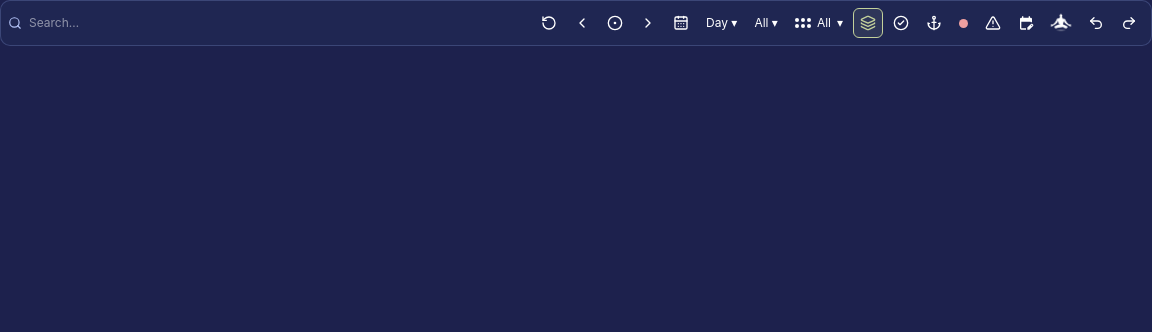
Test: calendar opens on the Timeline anchor month
What coordinates should you click on to do the following:
click the button named "Jump to date"
I would click on:
 (681, 23)
Its box is [666,8,696,38].
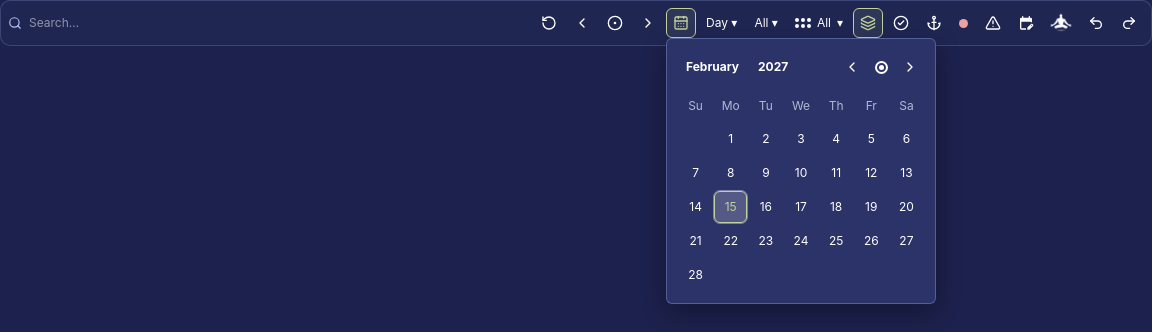
Expected: the button with aria-label "Choose month" reads "February", [679,51,746,83]
Expected: the button named "Edit calendar year" reads "2027", [751,51,795,83]
What coordinates should you click on to do the following:
click the button named "2027-02-20"
I would click on:
 (906, 207)
Its box is [890,191,923,223].
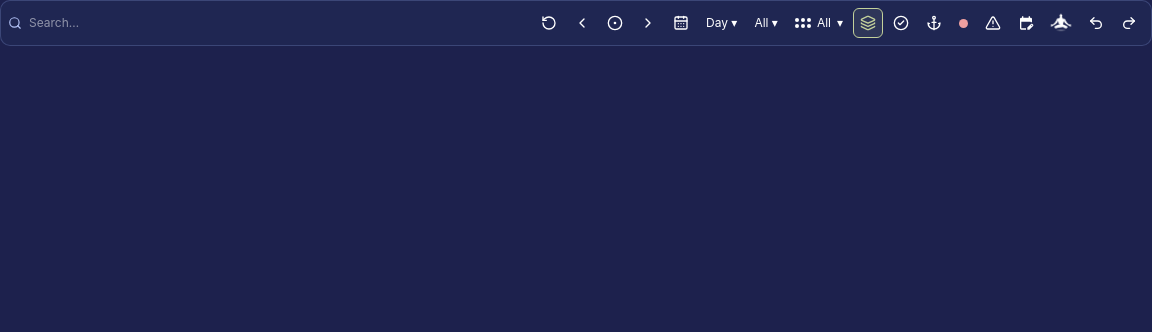
Expected: the button named "Jump to date" is collapsed, [666,8,696,38]
